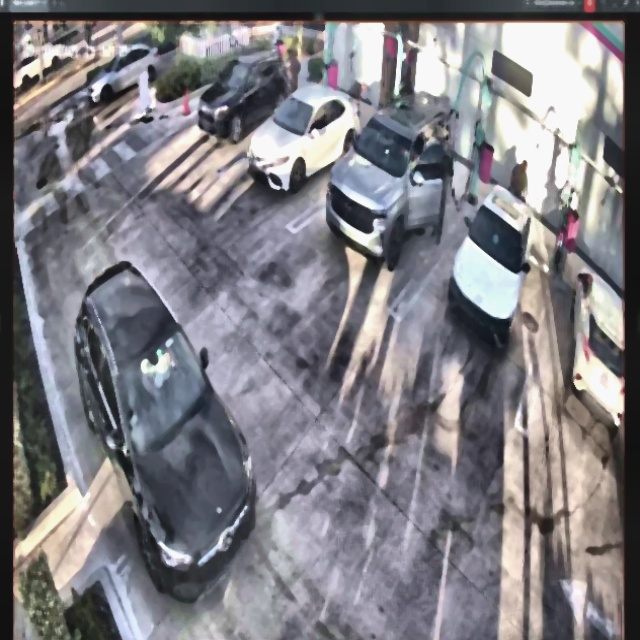Car: (70, 256, 256, 598), (329, 90, 451, 266), (453, 185, 532, 348), (247, 89, 361, 195)
